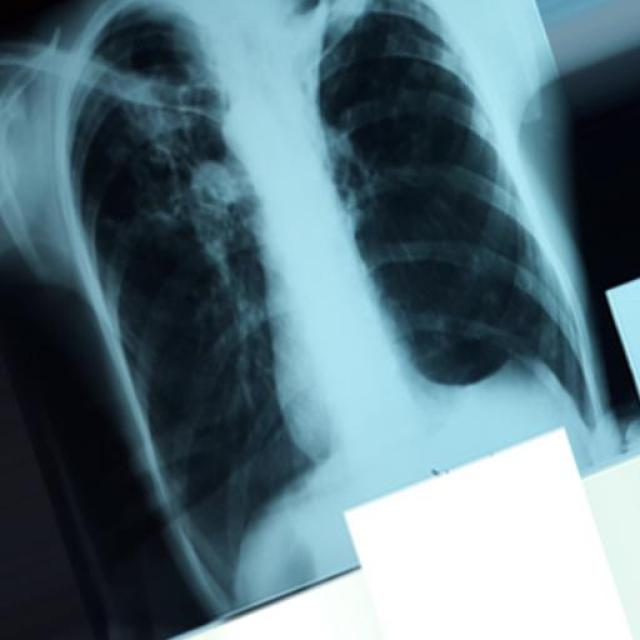tuberculosis: (1, 0, 630, 612)
